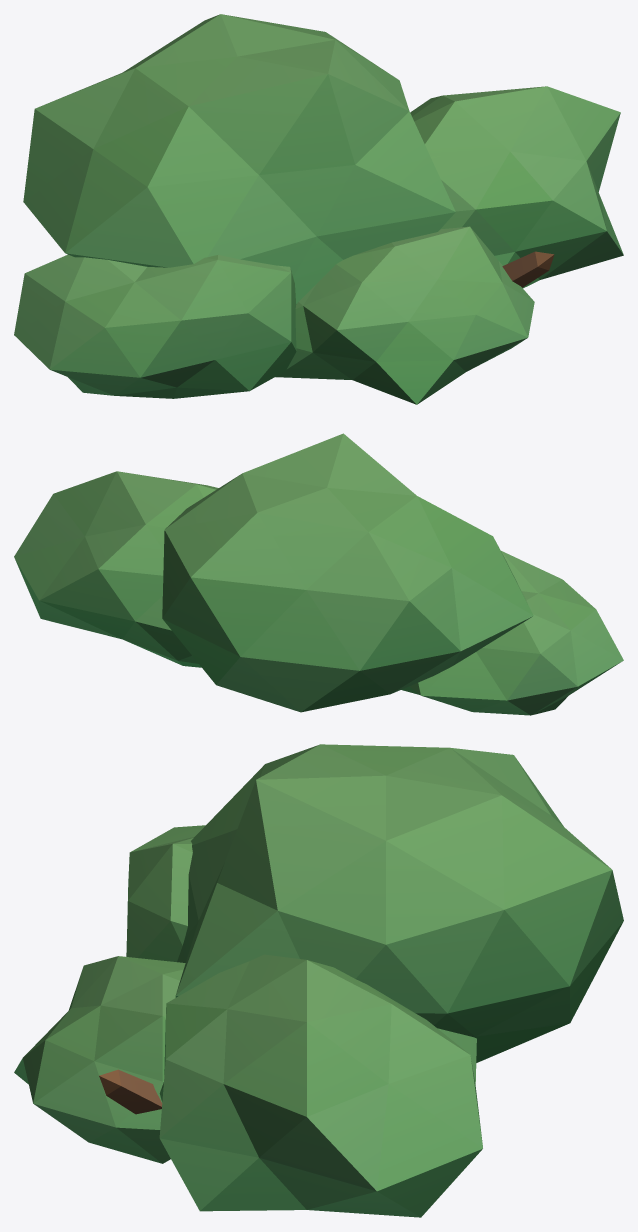
The model's file is ground_bush_round_v3.fbx.
The picture shows the model from 3 angles, top to bottom: view 1: azimuth 30°, elevation 25°; view 2: azimuth 150°, elevation 25°; view 3: azimuth 270°, elevation 25°; orthographic projection. The views are drawn at different scales.
Visible parts, largest first — view 1: ground_bush_round_v3; view 2: ground_bush_round_v3; view 3: ground_bush_round_v3.
Part boxes in pixels (x1=…): ground_bush_round_v3: x1=14, y1=14, x2=623, y2=404; ground_bush_round_v3: x1=14, y1=433, x2=623, y2=715; ground_bush_round_v3: x1=14, y1=744, x2=623, y2=1217.
Size of the model in its own units: 601 by 270 by 423.
